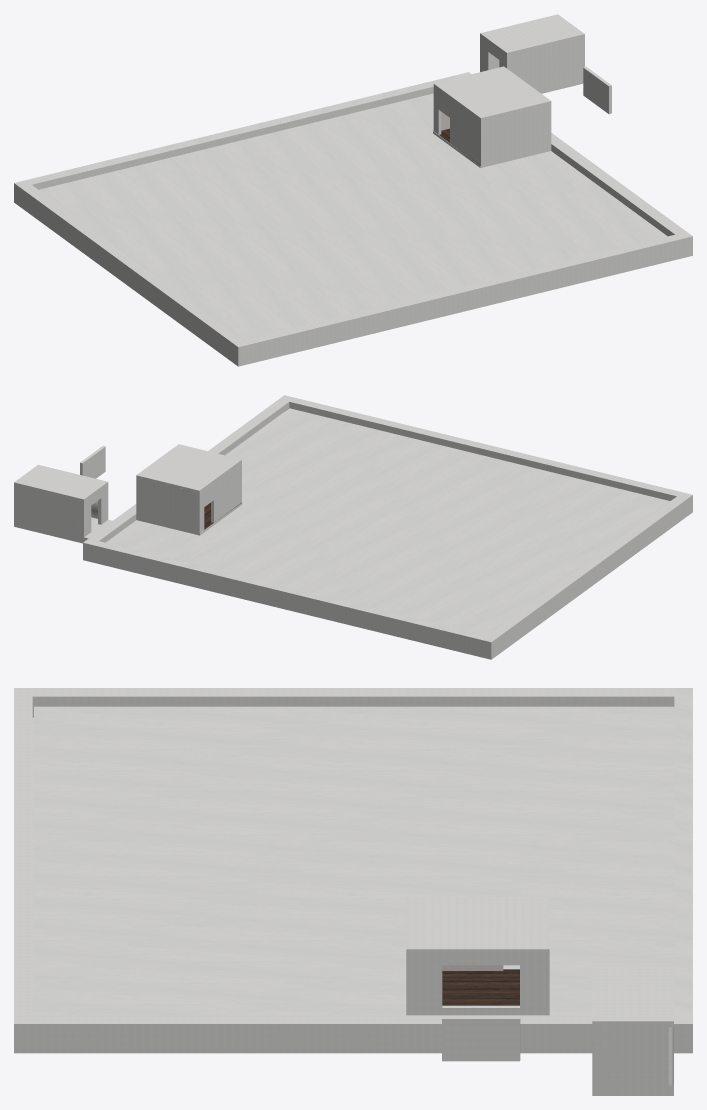
File: stage2_3.fbx
3 renders of one model, top to bottom at view 1: azimuth 30°, elevation 25°; view 2: azimuth 150°, elevation 25°; view 3: azimuth 270°, elevation 25°, orthographic. The views are drawn at different scales.
Visible parts, largest first — view 1: wall; view 2: wall; view 3: wall.
Boxes of the visible parts, x1,y1,x2,y2 form: wall: (14, 14, 692, 366); wall: (14, 395, 692, 659); wall: (14, 688, 692, 1095).
Size of the model in its own units: 4492 by 501 by 3246.
